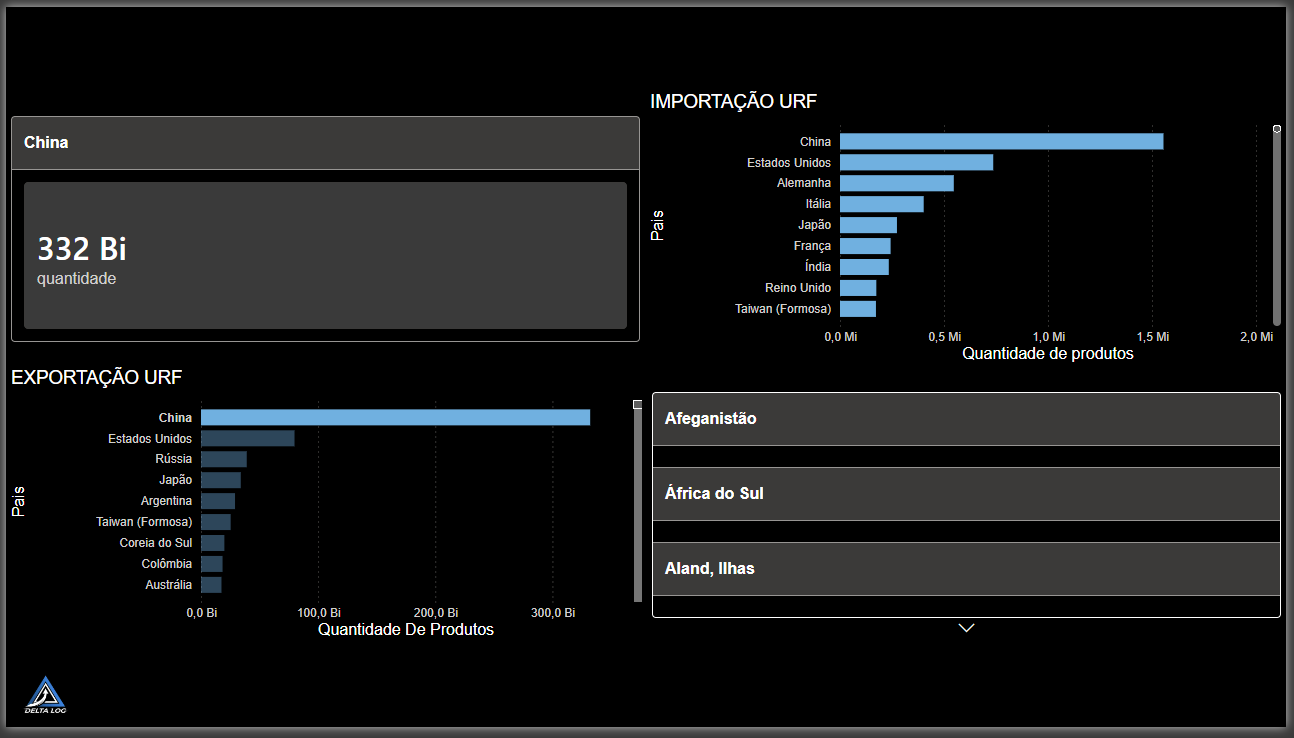

What the dashboard file says about the page in this screenshot:
{"tool":"powerbi","page":{"name":"Países","canvas":[1280,720],"ordinal":3},"visuals":[{"type":"barChart","title":"EXPORTAÇÃO URF","fields":{"Y":["Sum(exp_final (2).QT_ESTAT)"],"Category":["exp_final (2).NO_PAIS"]},"box":[0,360,640.6,276.4],"z":0},{"type":"image","box":[0,659.1,78,60.9],"z":1000},{"type":"barChart","title":"IMPORTAÇÃO URF","fields":{"Category":["imp_final.NO_PAIS"],"Y":["CountNonNull(imp_final.QT_ESTAT)"]},"box":[639.2,83.6,640.6,276.4],"z":2000},{"type":"cardVisual","fields":{"Rows":["exp_final (2).NO_PAIS"],"Data":["Sum(exp_final (2).QT_ESTAT)"]},"box":[0,84,639,276],"z":3000},{"type":"cardVisual","fields":{"Rows":["imp_final.NO_PAIS"],"Data":["CountNonNull(imp_final.QT_ESTAT)"]},"box":[641,360,639,276],"z":4000}]}

Visuals, with their boxes in screenshot pixels (x1, y1, x2, y2), scaled from the page's 1280x720 canvas onto the 1294x738 screenshot:
"EXPORTAÇÃO URF" barChart: bbox=[0, 369, 648, 652]
image: bbox=[0, 676, 79, 737]
"IMPORTAÇÃO URF" barChart: bbox=[646, 86, 1293, 369]
cardVisual - exp_final (2).NO_PAIS x Sum(exp_final (2).QT_ESTAT): bbox=[0, 86, 646, 369]
cardVisual - imp_final.NO_PAIS x CountNonNull(imp_final.QT_ESTAT): bbox=[648, 369, 1293, 652]
